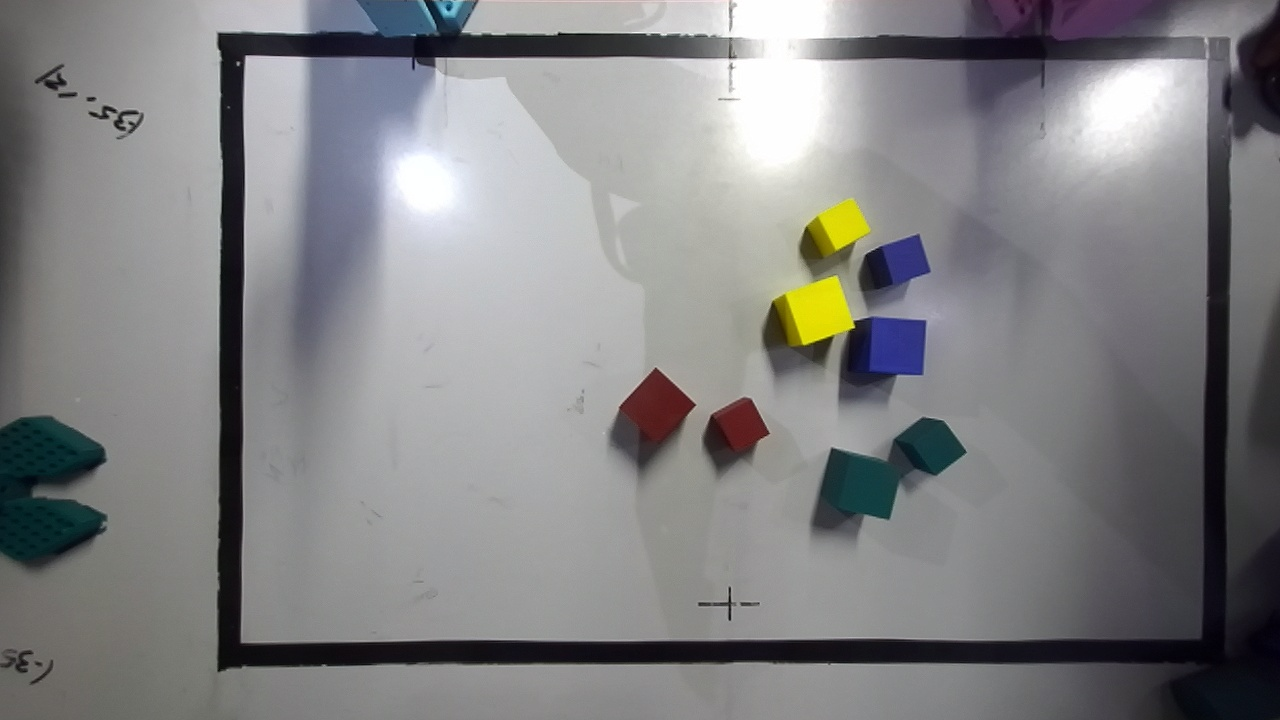cube: (820, 448, 900, 519), (773, 276, 853, 345), (619, 368, 694, 441), (847, 317, 926, 375), (895, 417, 966, 474), (806, 199, 869, 255), (864, 234, 929, 287), (710, 397, 769, 451)
